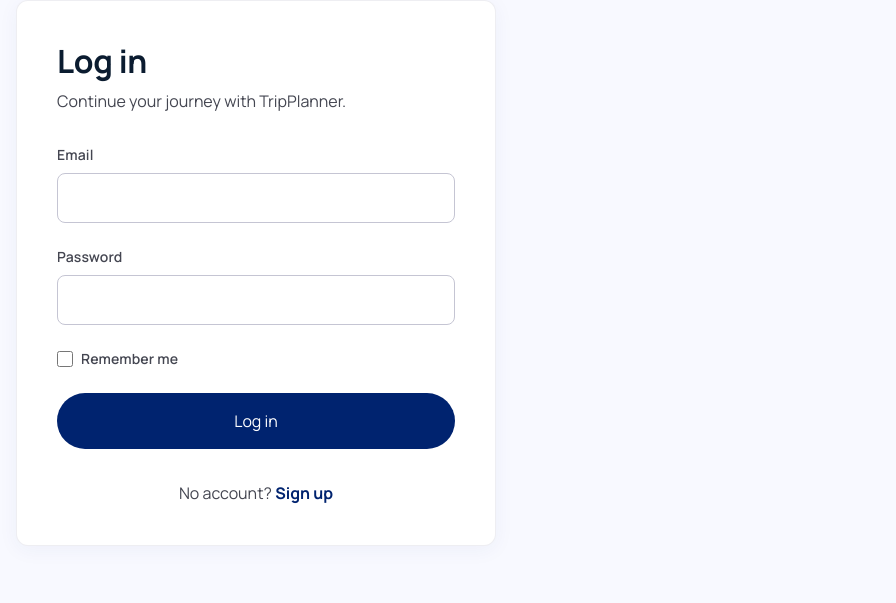
Test: LoginPage › shows the server error message for invalid credentials
Type "jane@example.com" into the field labelled "Email" at (256, 198), box 57,173 -> 455,223
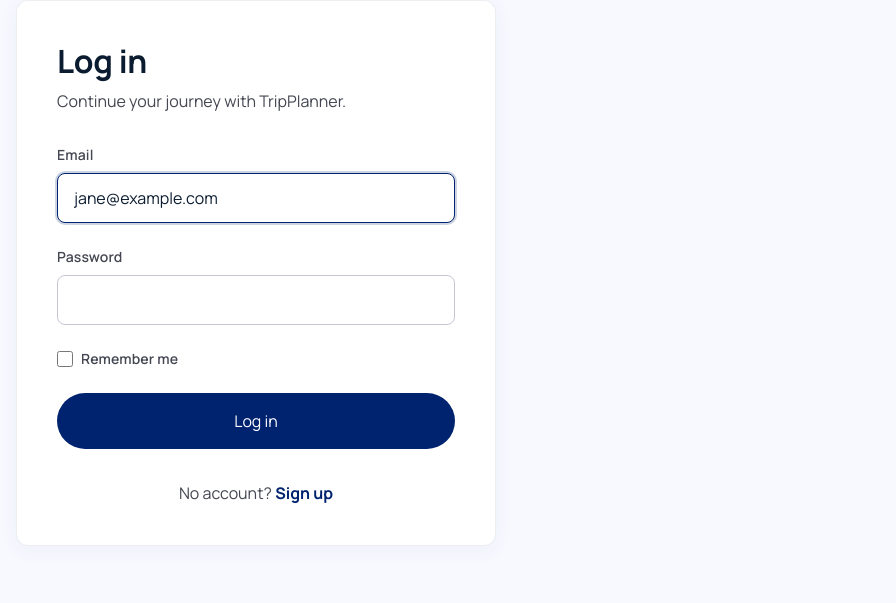
Type "totally-wrong" into the password field labelled "Password" at (256, 300), box 57,275 -> 455,325
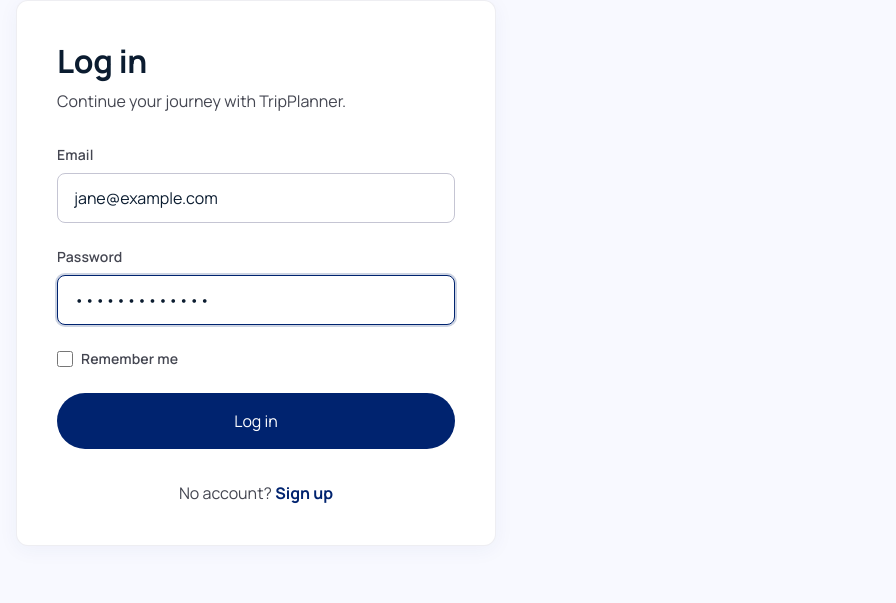
Click the button "Log in" at (256, 421), box 57,393 -> 455,449
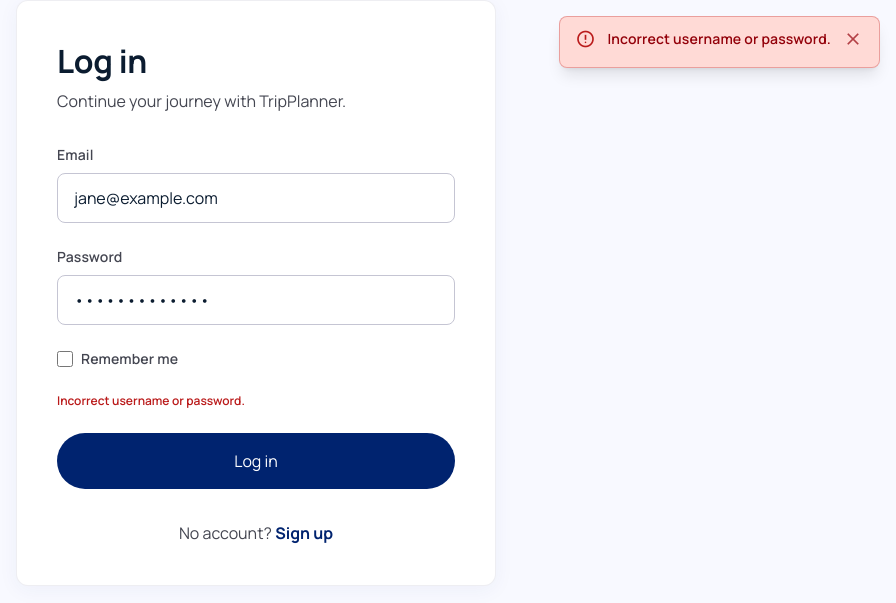
Result: the text "Incorrect username or password." below "Remember me" is shown at 57,392 -> 245,409
